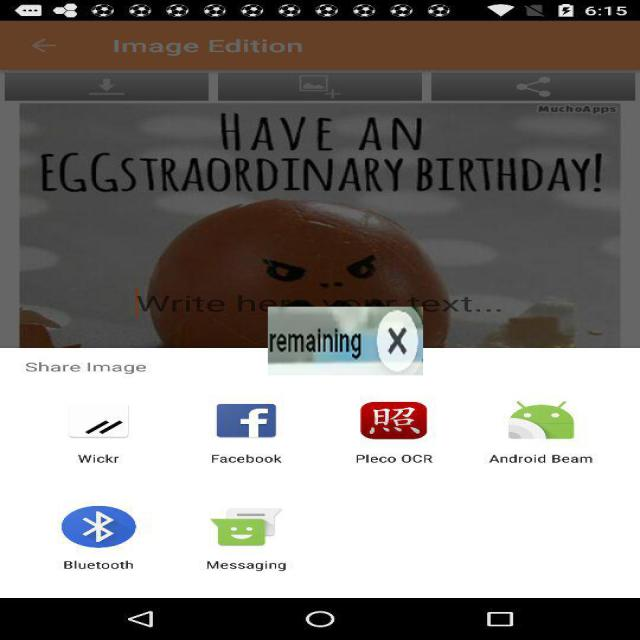misdirection: (268, 307, 423, 375)
